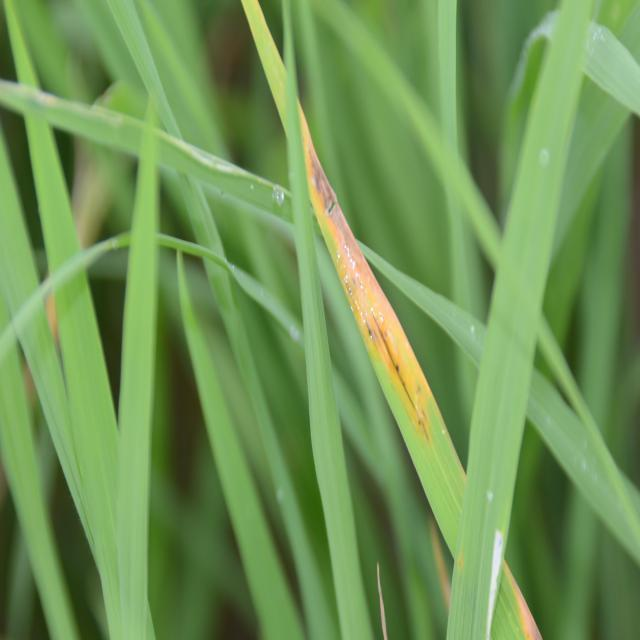Rice Tungro: (290, 116, 442, 457)
